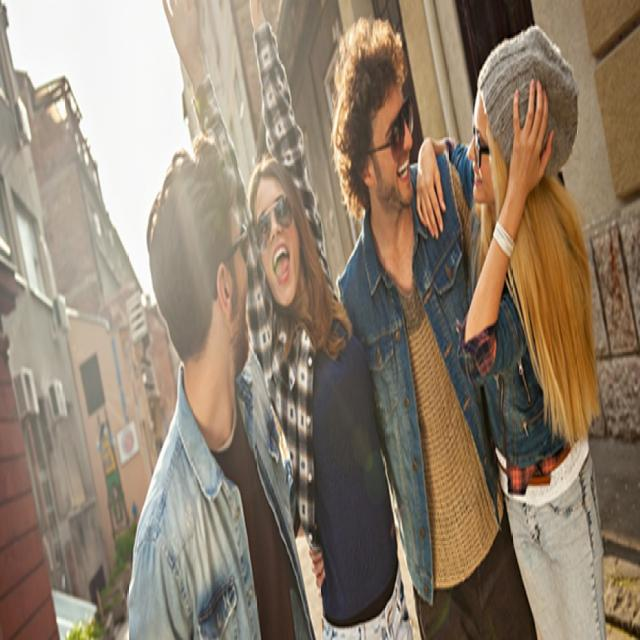body: (163, 0, 414, 640), (308, 13, 538, 640), (407, 20, 608, 638), (124, 131, 325, 639)
